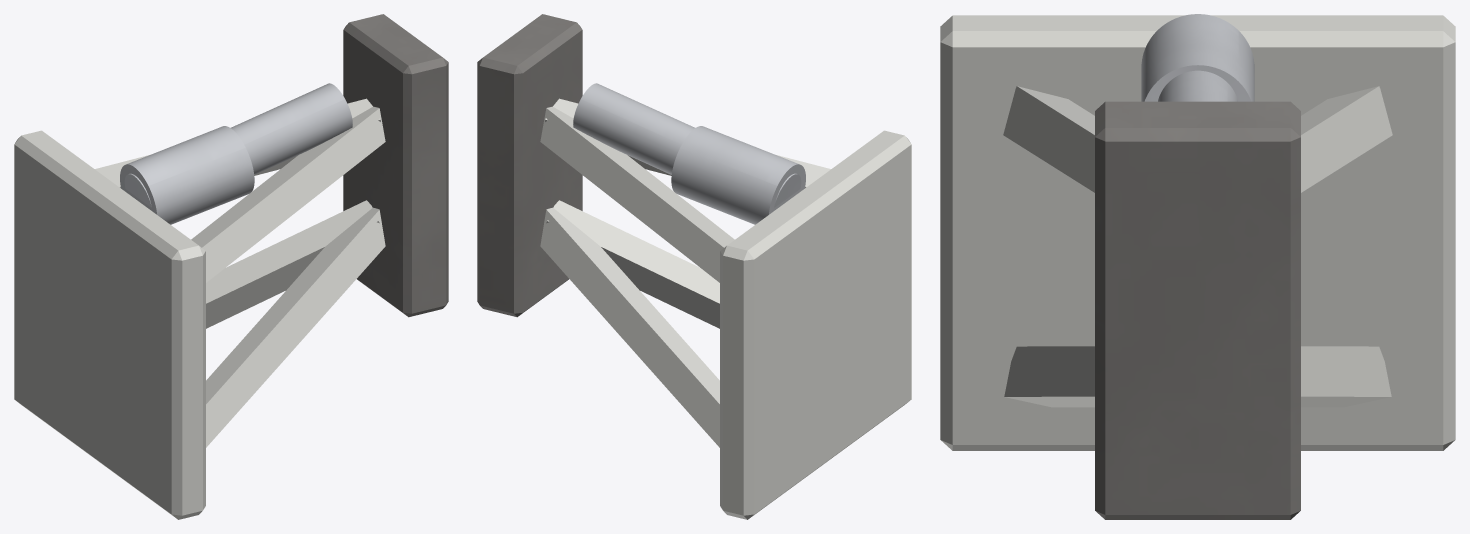
The model's file is ax_rover_18_active_suspension_susp_up.glb.
3 views of the same model, side by side, from view 1: azimuth 30°, elevation 25°; view 2: azimuth 150°, elevation 25°; view 3: azimuth 270°, elevation 25° (orthographic). The views are drawn at different scales.
Visible parts, largest first — view 1: mount_bracket, arm_wishbones, upright, damper; view 2: mount_bracket, arm_wishbones, upright, damper; view 3: mount_bracket, upright, arm_wishbones, damper.
Part boxes in pixels (x1,y1,x2,y2): mount_bracket: (14,130,205,519); arm_wishbones: (95,98,385,447); upright: (343,14,448,317); damper: (120,83,352,224); mount_bracket: (720,130,911,519); arm_wishbones: (540,98,830,447); upright: (477,14,582,317); damper: (573,83,805,224); mount_bracket: (940,15,1455,450); upright: (1095,101,1300,519); arm_wishbones: (1003,86,1392,407); damper: (1141,14,1254,101).
Bounding box in the file's own units: 0.57 × 0.585 × 0.5.
Materials: 3 (2 with a texture image).
